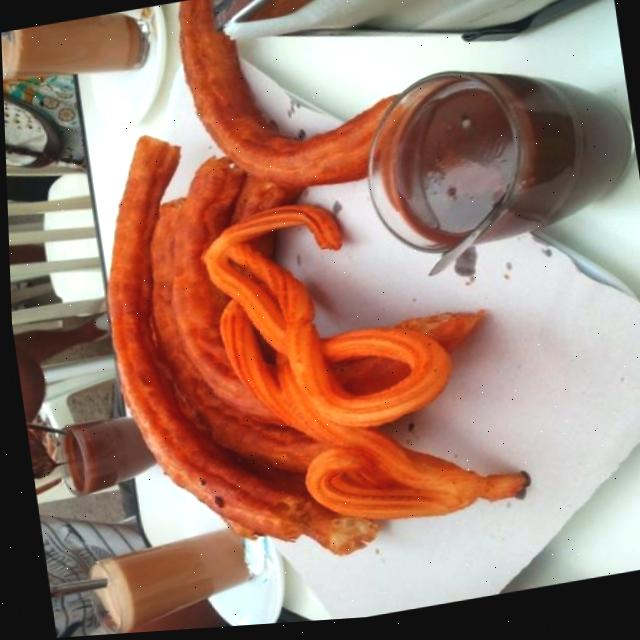炸货点心: (11, 0, 640, 638)
